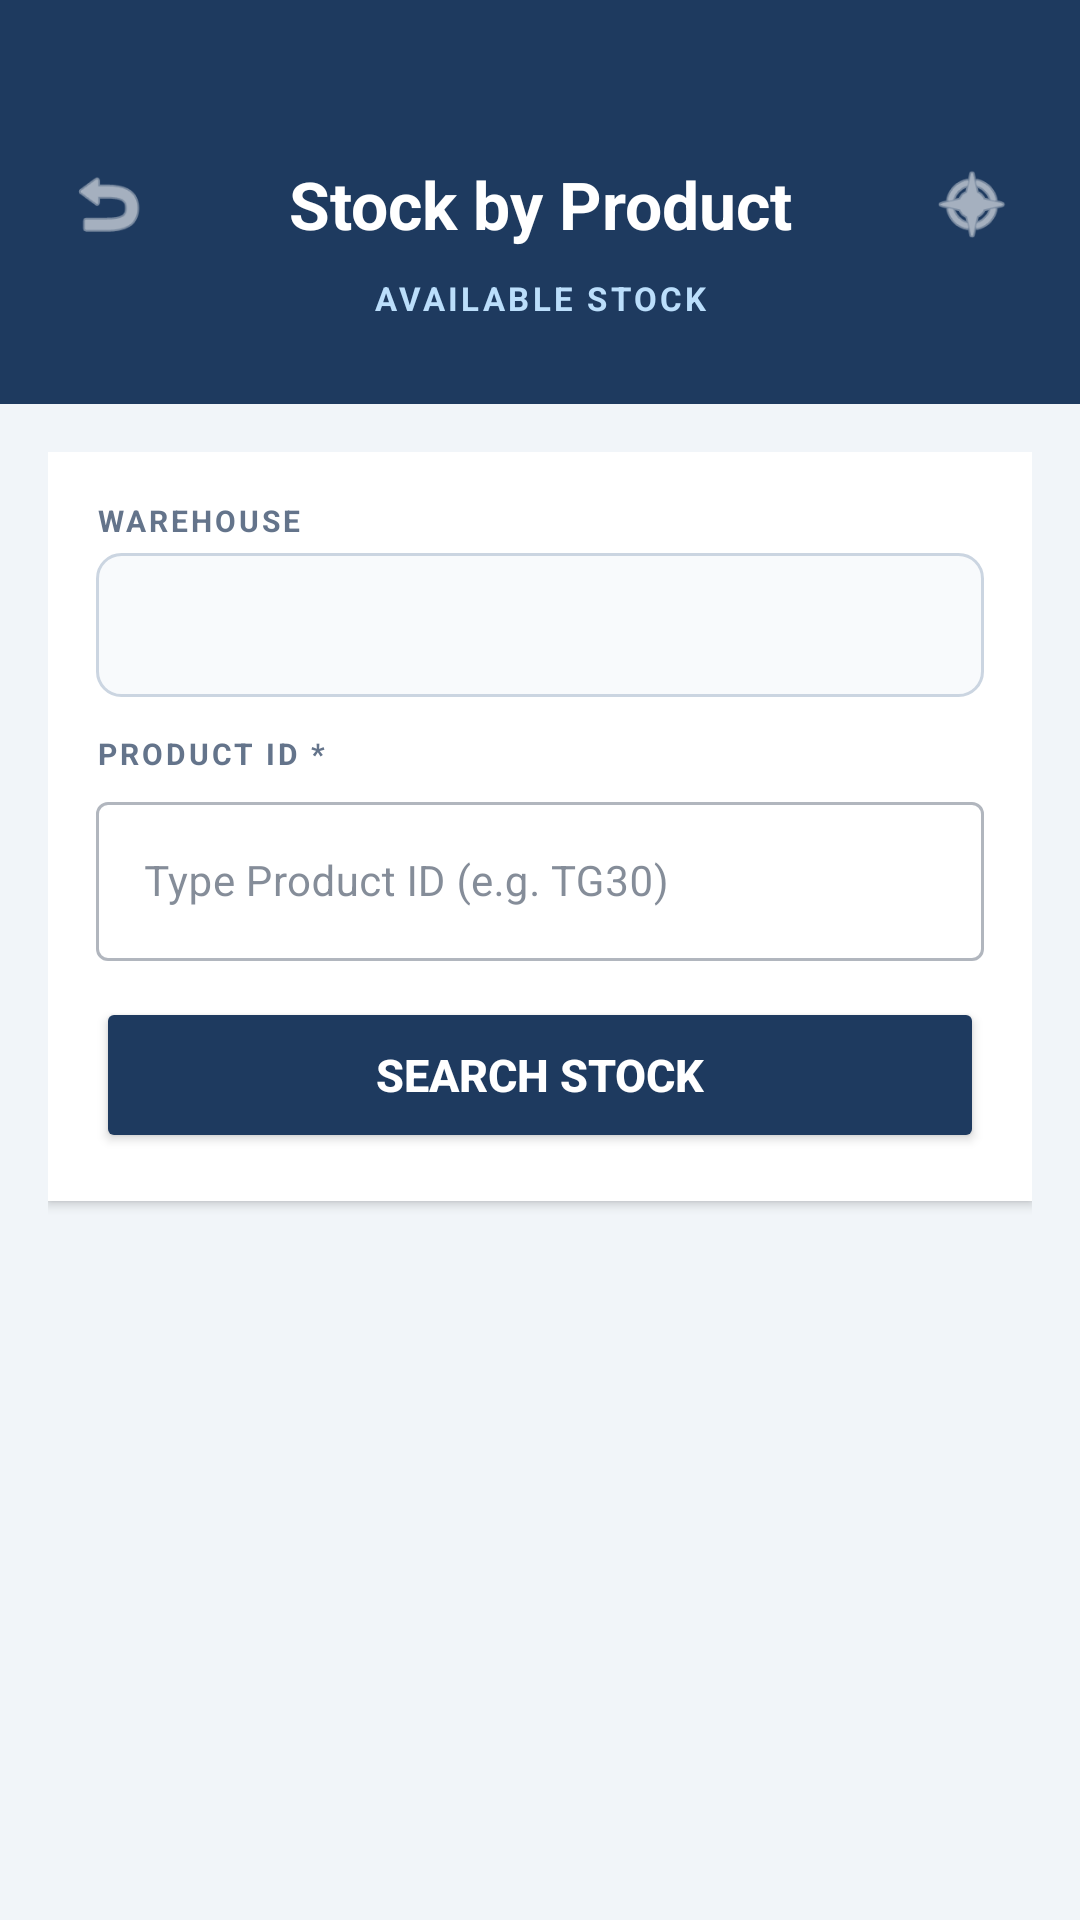

Screen size 1080*1920. Icon name, then its center in pixels as [x,y]:
compass: [972,204]
revert: [109,204]
